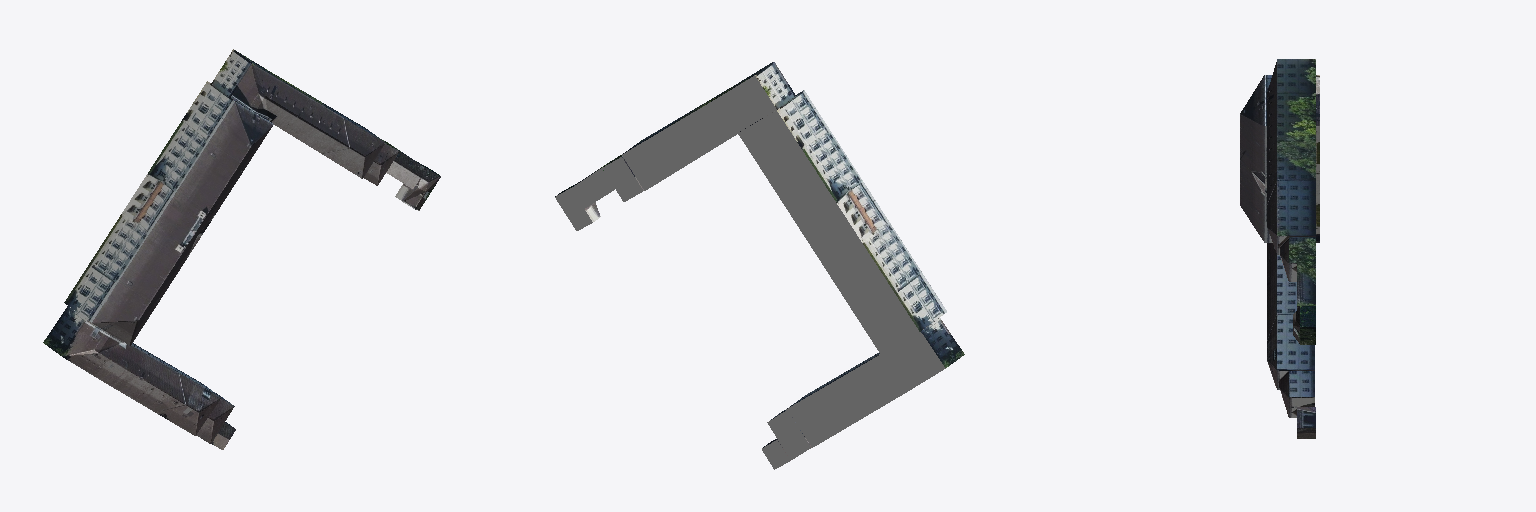
3 views of the same model, side by side, from view 1: azimuth 30°, elevation 25°; view 2: azimuth 150°, elevation 25°; view 3: azimuth 270°, elevation 25° (orthographic).
Bounding box in the file's own units: 126 × 120 × 22.33.
Materials: 59 (59 with a texture image).